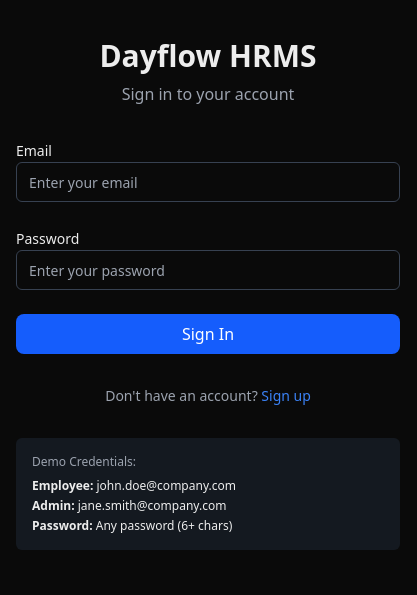
Test: LoginPage › should clear field errors when user starts typing
// Trigger validation error
Click the button "Sign In".
click(208, 334)  # box left=16, top=314, right=400, bottom=354
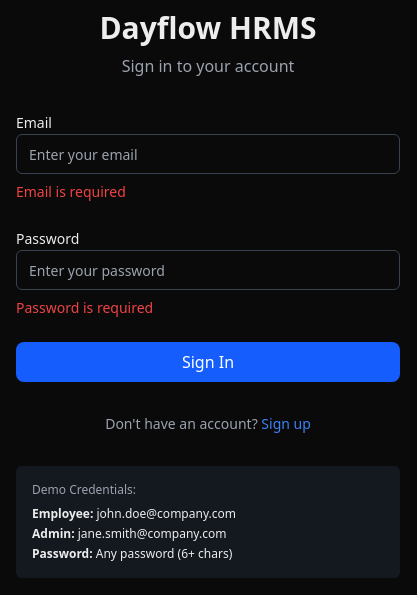
Expected: the text "Email is required" is shown, left=16, top=182, right=126, bottom=201
// Start typing to clear error
Type "test@example.com" into the field labelled "Email".
click(208, 154); type("test@example.com")  # box left=16, top=134, right=400, bottom=174
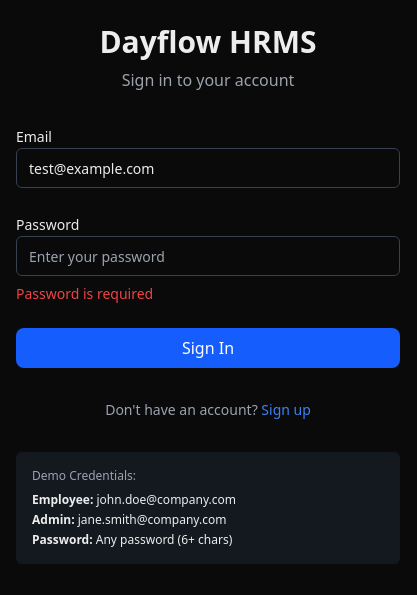
Expected: the text "Email is required" is gone
